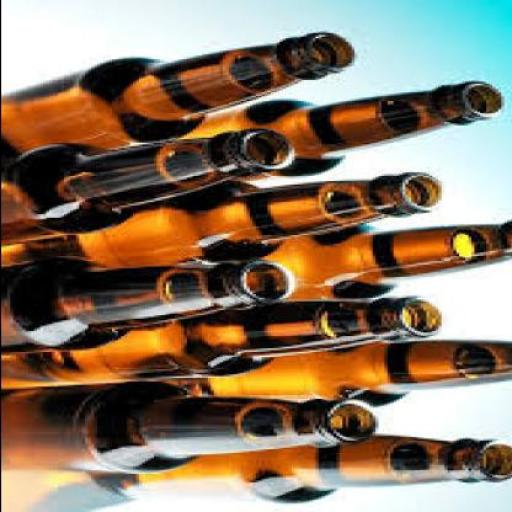glass: (3, 171, 446, 275), (3, 32, 356, 160), (3, 296, 443, 383), (3, 128, 300, 246), (186, 80, 506, 185), (3, 382, 380, 470), (59, 434, 511, 504), (2, 255, 303, 353), (182, 336, 511, 411), (263, 219, 511, 302)
